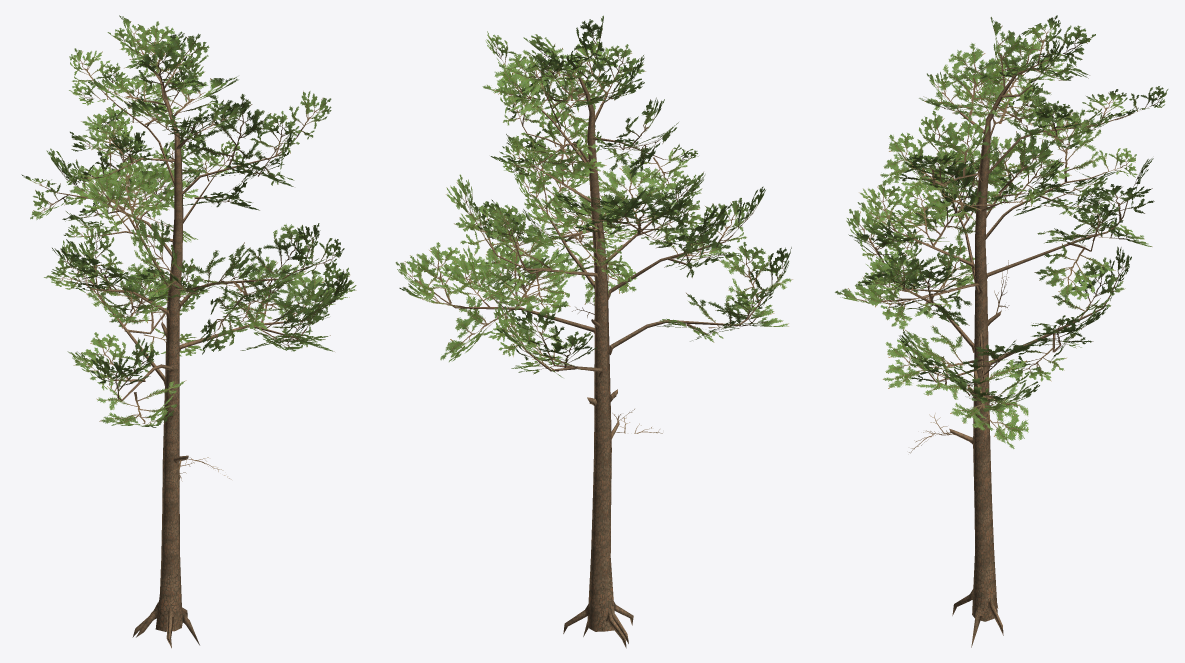
The picture shows the model from 3 angles, left to right: view 1: azimuth 30°, elevation 25°; view 2: azimuth 150°, elevation 25°; view 3: azimuth 270°, elevation 25°; orthographic projection. The views are drawn at different scales.
Visible parts, largest first — view 1: Pine_big_2_LOD2_Clusters_Mat_0; view 2: Pine_big_2_LOD2_Clusters_Mat_0; view 3: Pine_big_2_LOD2_Clusters_Mat_0.
Part boxes in pixels (left/top/right/bottom): Pine_big_2_LOD2_Clusters_Mat_0: left=21, top=15, right=356, bottom=648; Pine_big_2_LOD2_Clusters_Mat_0: left=395, top=15, right=792, bottom=648; Pine_big_2_LOD2_Clusters_Mat_0: left=835, top=15, right=1168, bottom=647.
Size of the model in its own units: 9.12 by 16.19 by 8.2.
